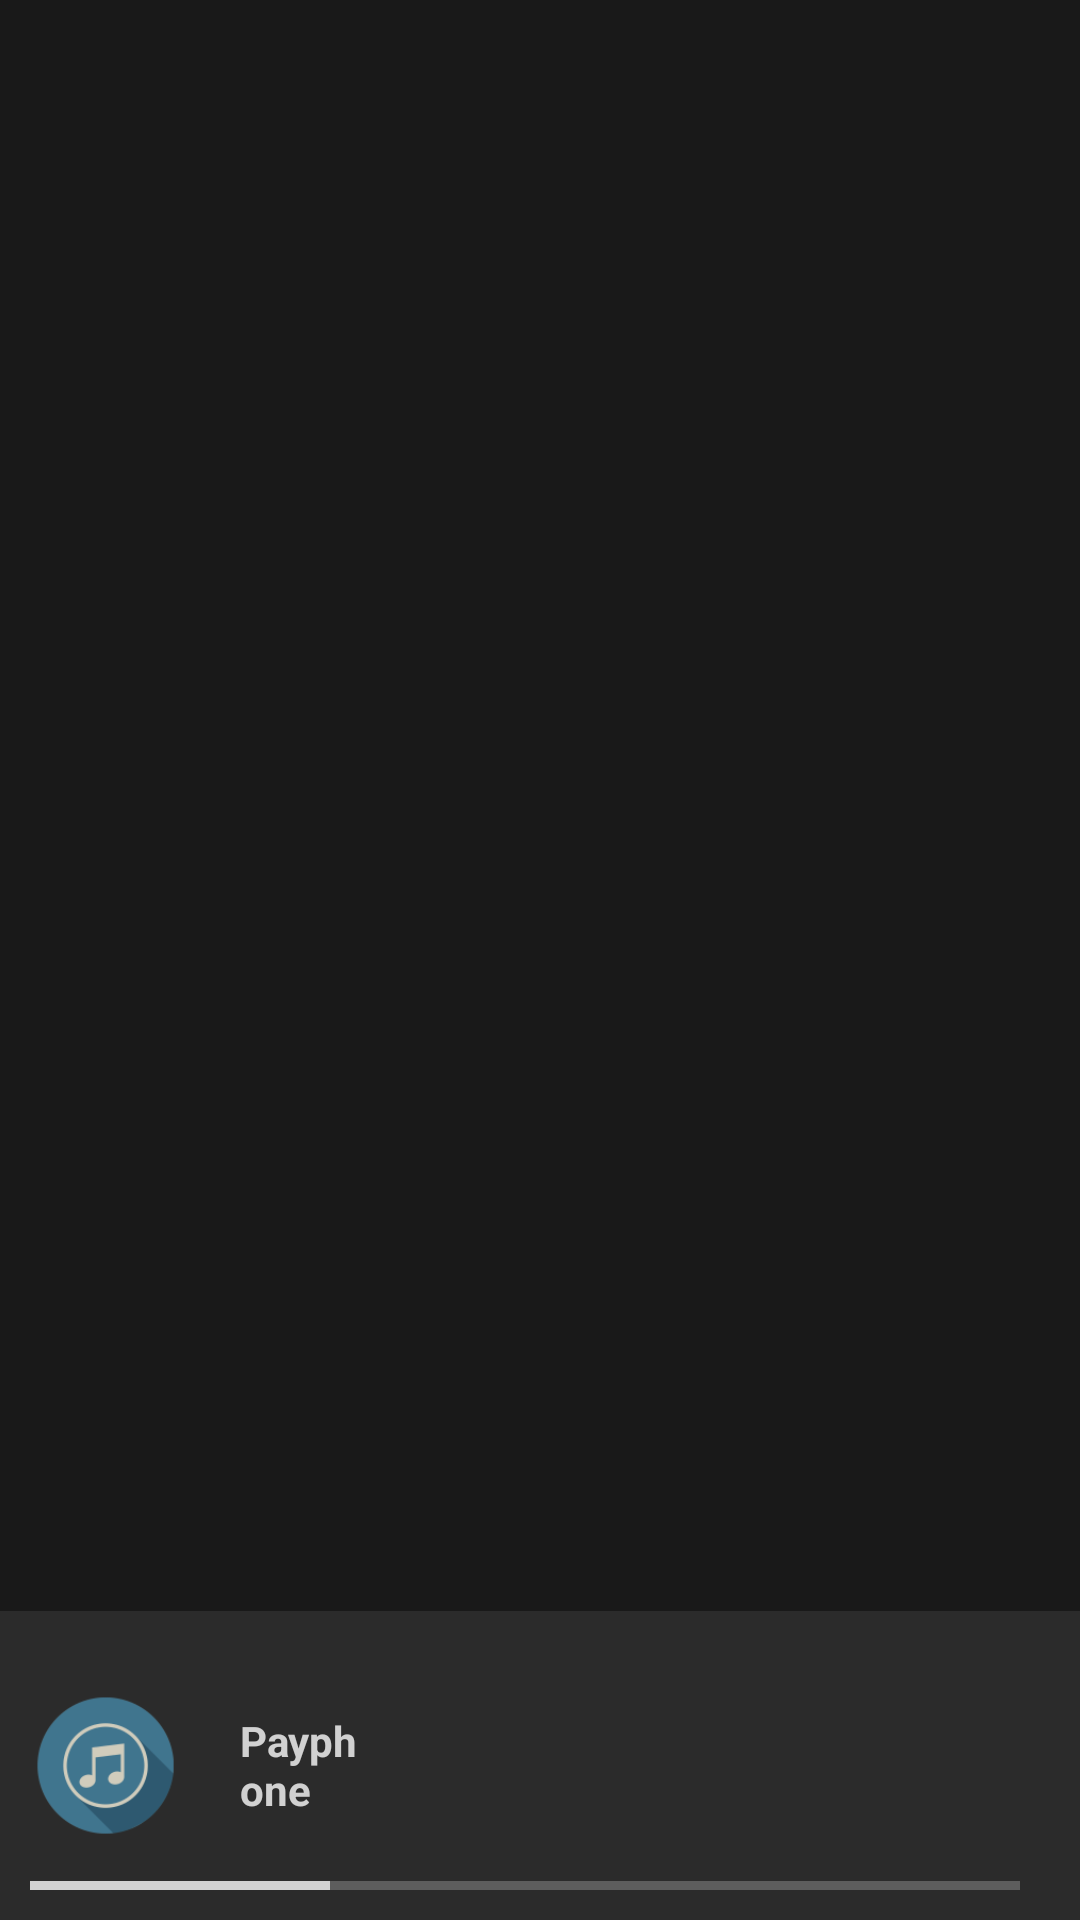

Named icons in this screenshot (1080 × 1920) and their bounding boxes, (x1, y1, x2, y2):
music: (37, 1697, 174, 1834)
